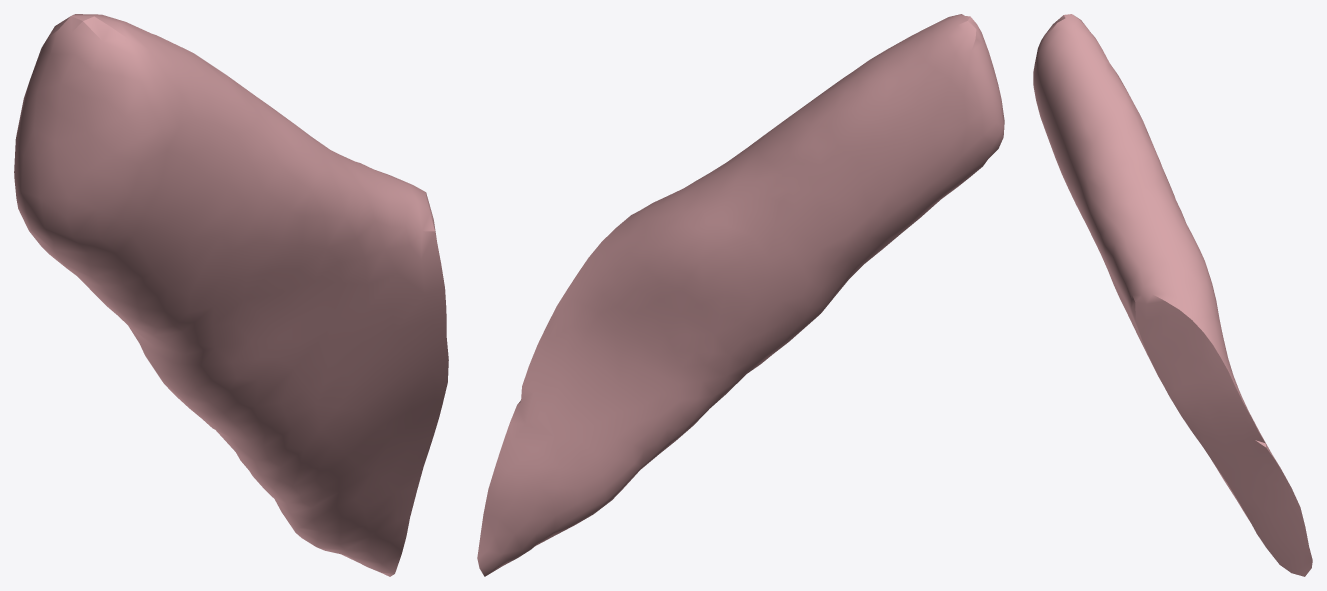
The model's file is fma297736_mm4017m.glb.
3 views of the same model, side by side, from view 1: azimuth 30°, elevation 25°; view 2: azimuth 150°, elevation 25°; view 3: azimuth 270°, elevation 25° (orthographic). The views are drawn at different scales.
Visible parts, largest first — view 1: FMA297736_MM4017M; view 2: FMA297736_MM4017M; view 3: FMA297736_MM4017M.
Part boxes in pixels (left/top/right/bottom): FMA297736_MM4017M: left=14, top=14, right=448, bottom=576; FMA297736_MM4017M: left=477, top=14, right=1004, bottom=576; FMA297736_MM4017M: left=1033, top=14, right=1312, bottom=576.
Bounding box in the file's own units: 0.0414 × 0.0564 × 0.0332.
